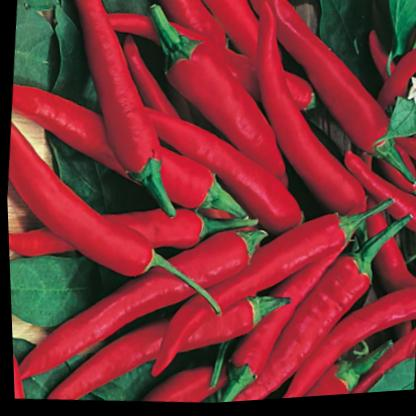chilli_pepper: (141, 182, 402, 401), (3, 108, 237, 329), (233, 0, 402, 250), (36, 0, 197, 231)
